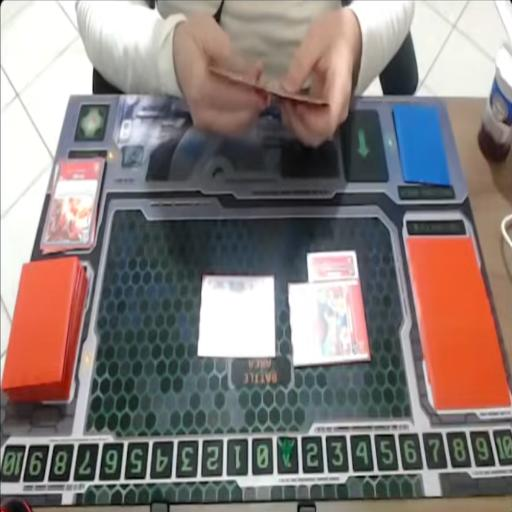card: (288, 282, 366, 372), (198, 269, 276, 358), (42, 148, 105, 248), (307, 248, 359, 286)
